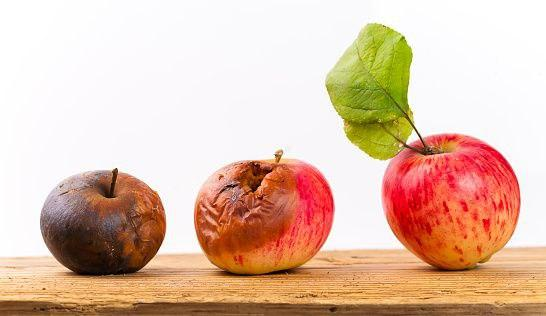Apple: (381, 132, 522, 269), (194, 157, 334, 276), (39, 168, 168, 278)
